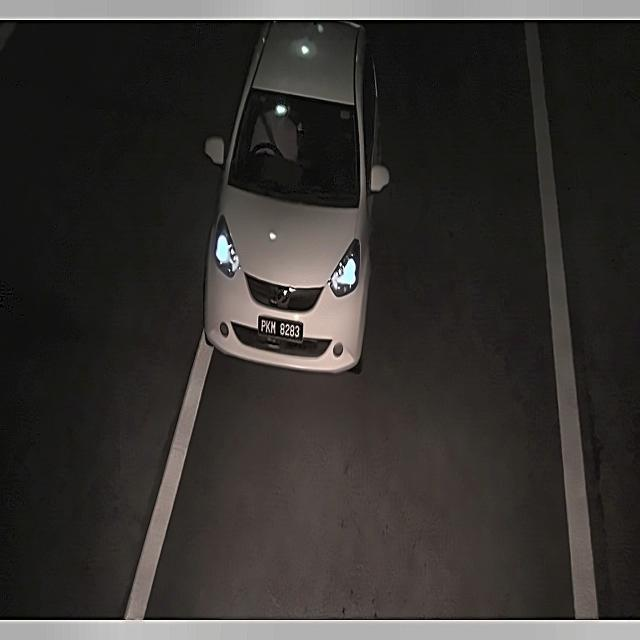car: (256, 312, 306, 348)
